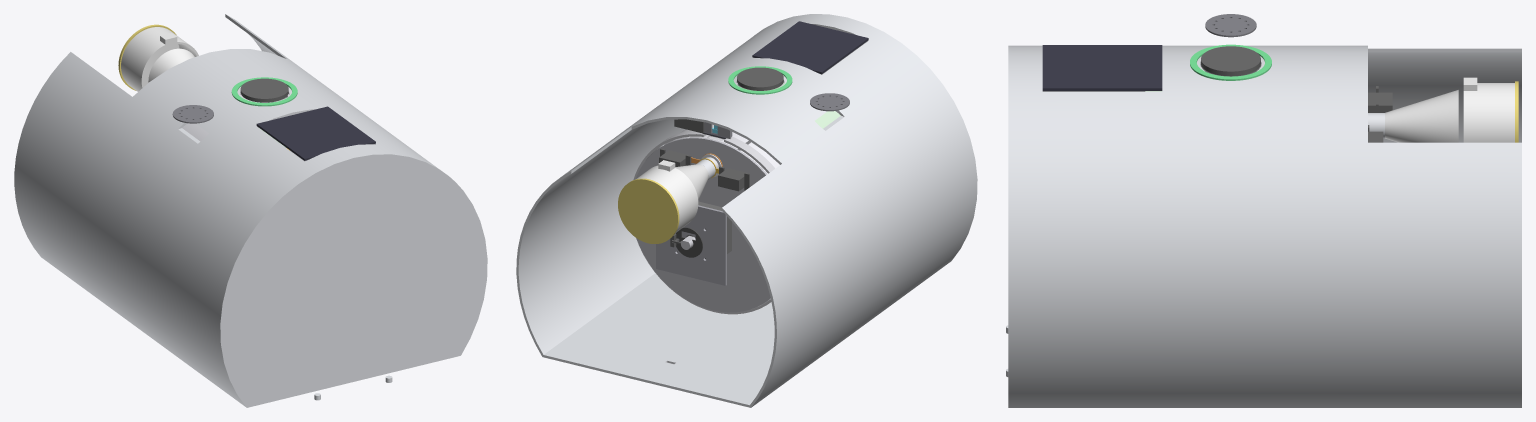
Rendered from hero_full_assembly.glb.
3 views of the same model, side by side, from view 1: azimuth 30°, elevation 25°; view 2: azimuth 150°, elevation 25°; view 3: azimuth 270°, elevation 25° (orthographic). The views are drawn at different scales.
Visible parts, largest first — view 1: Body1, Body1.033, Body1.031, Body1.002, Body1.001, Body1.003, Body1.035, Body1.032; view 2: Body1, Body1.015, Body1.030, Body1.031, Body1.027, Body1.002, Body1.022, Body1.001, Body1.033, Body1.020, Body1.035, Body1.032 (+2 smaller); view 3: Body1, Body1.031, Body1.002, Body1.003, Body1.001, Body1.033, Body1.035, Body1.032, Body1.020.
Boxes of the visible parts, x1,y1,x2,y2 form: Body1: (14, 14, 487, 407); Body1.033: (219, 153, 487, 407); Body1.031: (256, 106, 375, 160); Body1.002: (121, 27, 198, 91); Body1.001: (240, 78, 288, 102); Body1.003: (148, 48, 194, 82); Body1.035: (172, 105, 213, 123); Body1.032: (231, 77, 297, 106); Body1: (516, 14, 977, 407); Body1.015: (636, 137, 770, 312); Body1.030: (656, 205, 726, 285); Body1.031: (752, 21, 868, 74); Body1.027: (618, 178, 679, 243); Body1.002: (636, 160, 698, 232); Body1.022: (633, 130, 774, 314); Body1.001: (737, 67, 783, 90); Body1.033: (737, 14, 977, 261); Body1.020: (718, 166, 749, 191); Body1.035: (810, 93, 849, 111); Body1.032: (728, 66, 792, 94); Body1: (1008, 45, 1521, 407); Body1.031: (1042, 45, 1162, 90); Body1.002: (1463, 77, 1514, 142); Body1.003: (1385, 90, 1458, 142); Body1.001: (1201, 46, 1260, 76); Body1.033: (1008, 45, 1011, 407); Body1.035: (1205, 14, 1256, 37); Body1.032: (1190, 44, 1271, 80); Body1.020: (1368, 86, 1392, 112).
Bounding box in the file's own units: 11.24 × 9.51 × 15.07.
